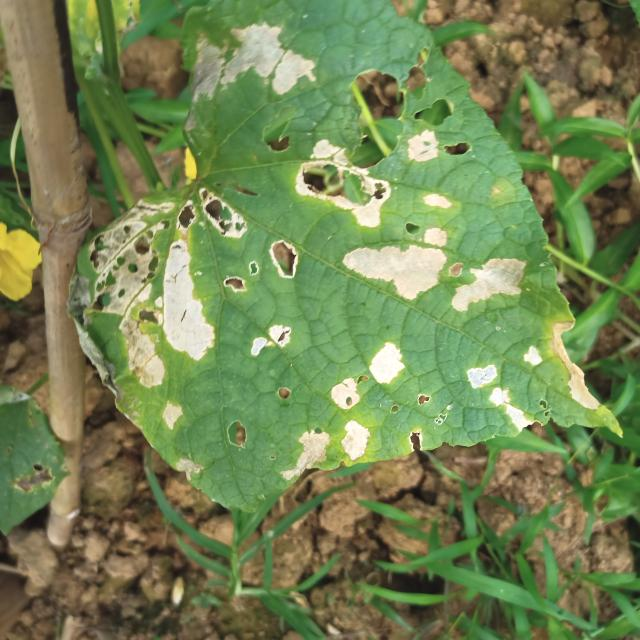disease_cucumber: (273, 222, 597, 498), (49, 192, 300, 482), (190, 18, 471, 239)
